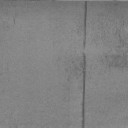surface scratch: (82, 52, 86, 128), (82, 0, 88, 50)
